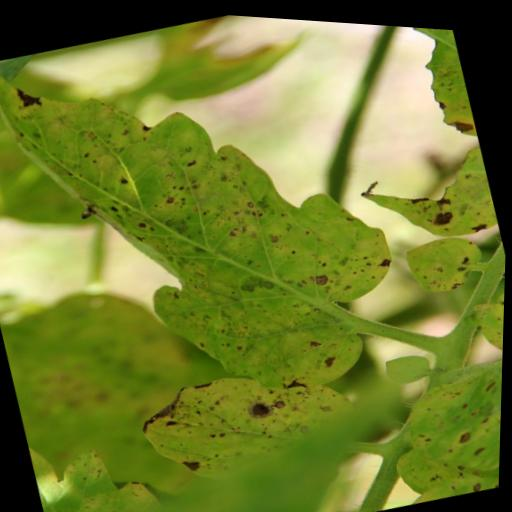Septoria: (0, 0, 428, 452), (128, 336, 374, 503), (391, 218, 492, 299)
